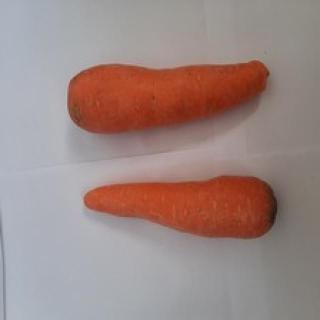carrot: (66, 63, 270, 131), (83, 175, 278, 238)
